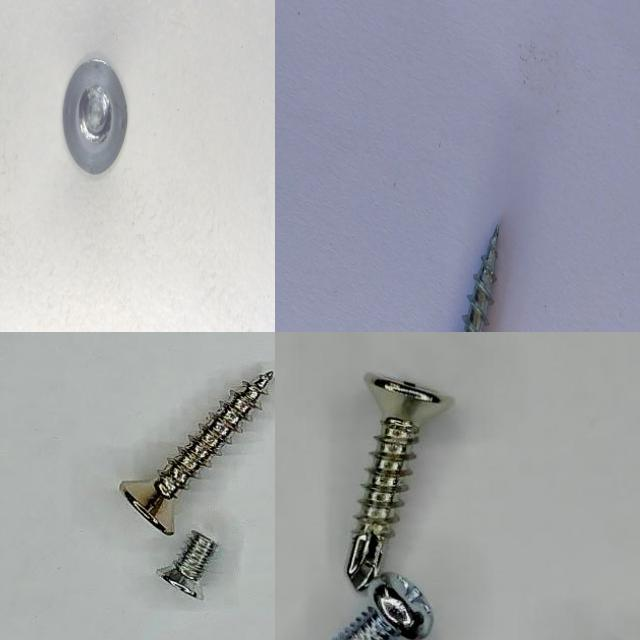Screw: (119, 372, 272, 536), (346, 373, 452, 590), (63, 59, 127, 173), (333, 574, 433, 640), (156, 531, 218, 601), (462, 225, 499, 332)
